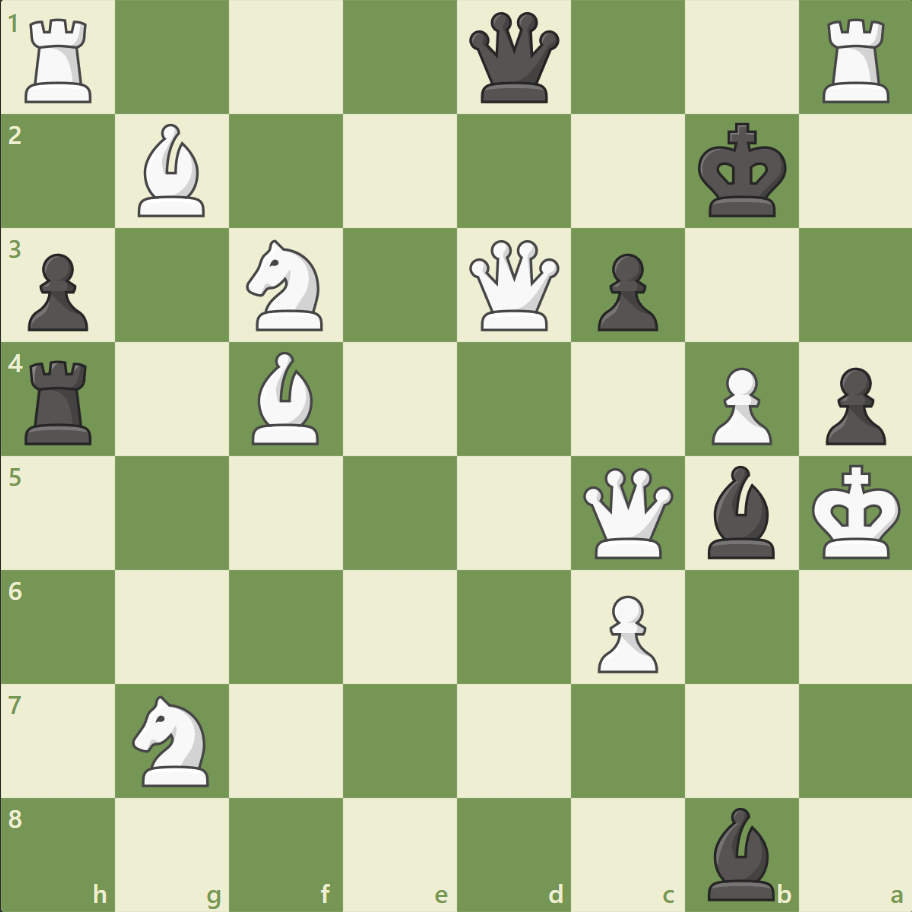B: (244, 347, 328, 449), (131, 120, 215, 222)
K: (806, 458, 906, 566)
N: (124, 688, 222, 791), (238, 234, 335, 337)
P: (701, 359, 776, 450), (588, 586, 662, 677)
Q: (578, 463, 677, 562), (464, 236, 563, 335)
R: (814, 12, 897, 109), (19, 12, 102, 109)
b: (698, 801, 782, 904), (698, 460, 782, 563)
k: (692, 117, 792, 225)
p: (20, 246, 95, 337), (815, 359, 889, 450), (588, 246, 662, 337)
q: (464, 9, 563, 108)
r: (19, 352, 102, 449)
